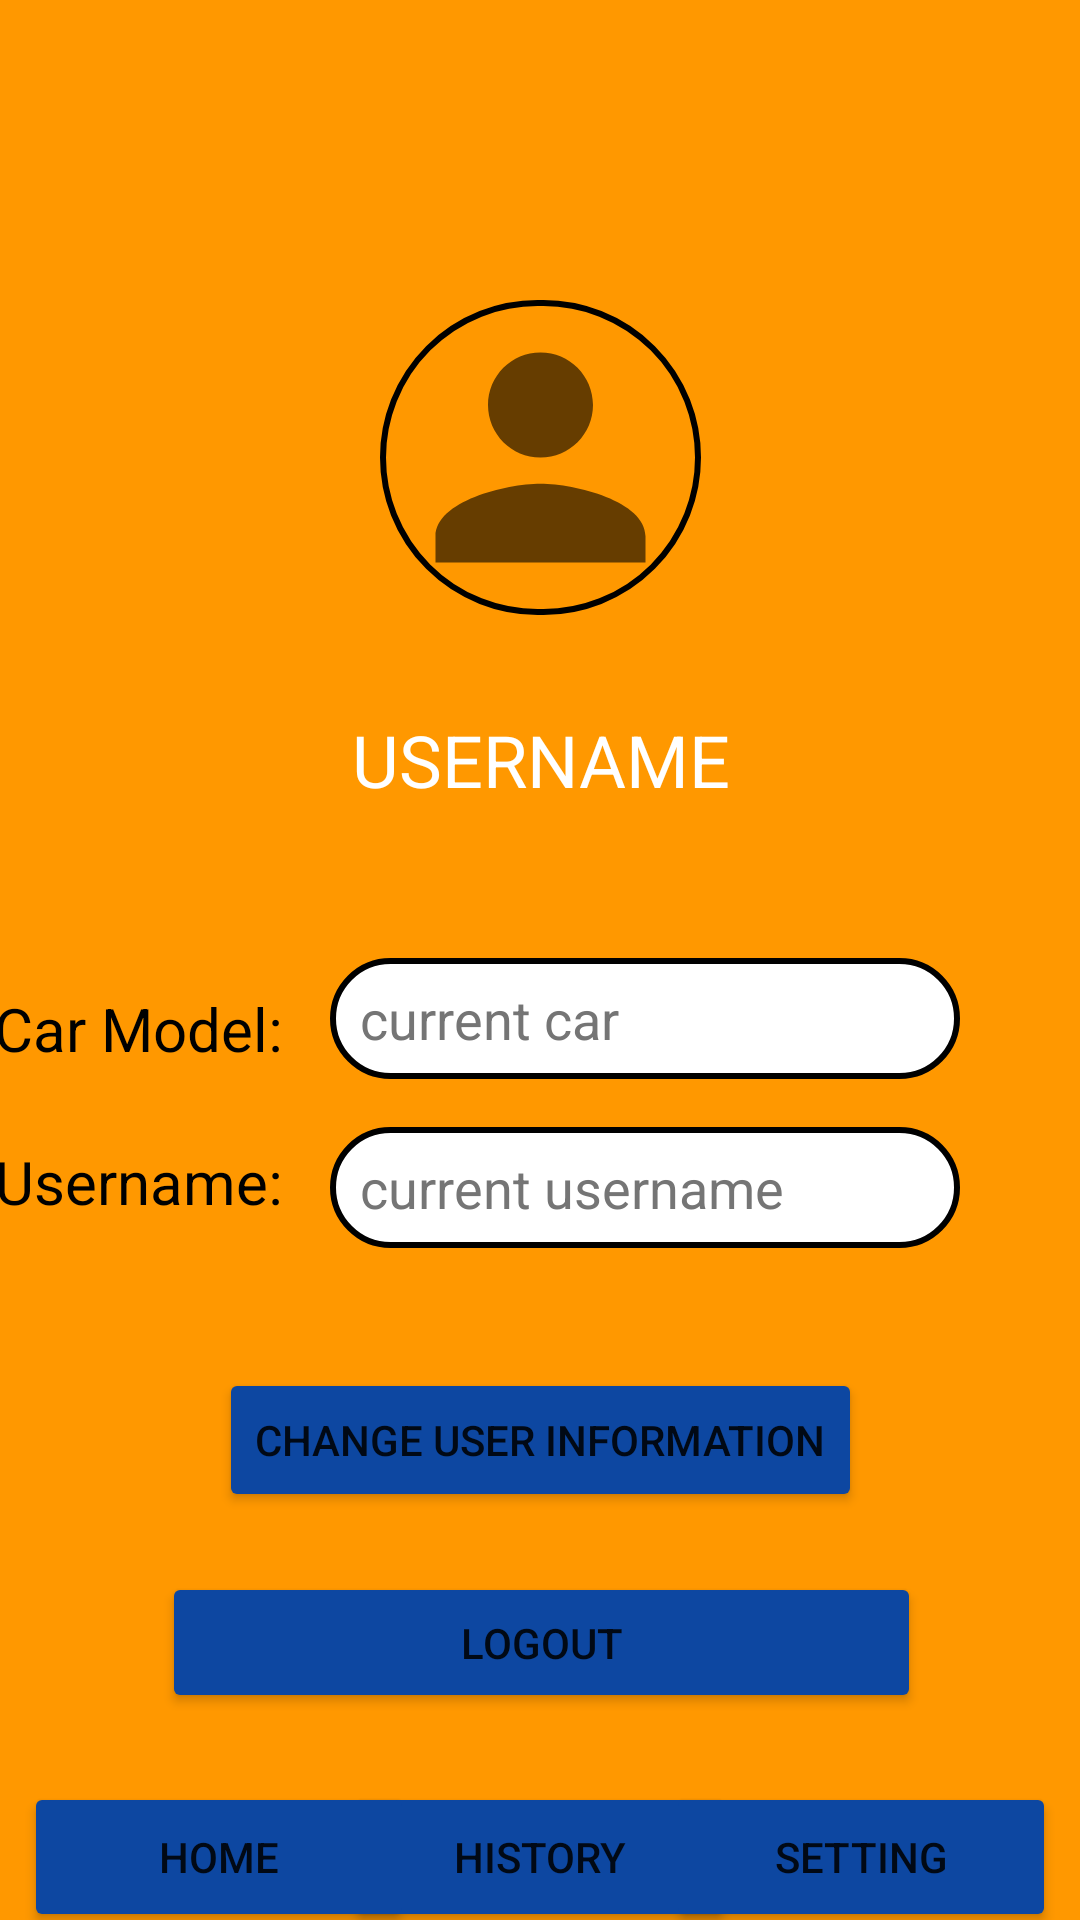

Screen size 1080*1920. Icon name, then its center in pixels as (x=x, y=y):
person: (x=540, y=457)
